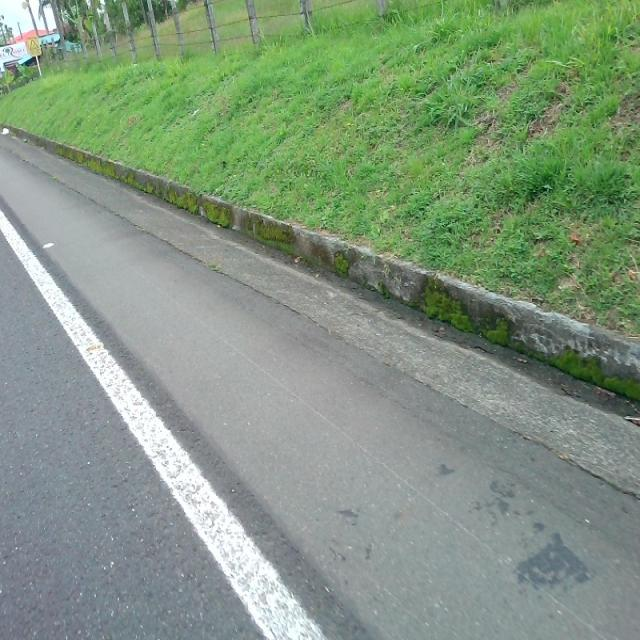DITCH: (1, 128, 639, 638)
